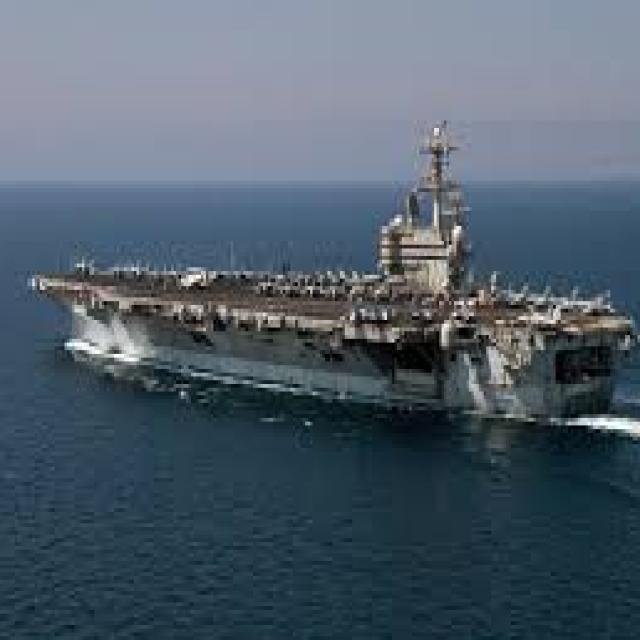navalvessels: (15, 128, 640, 433)
